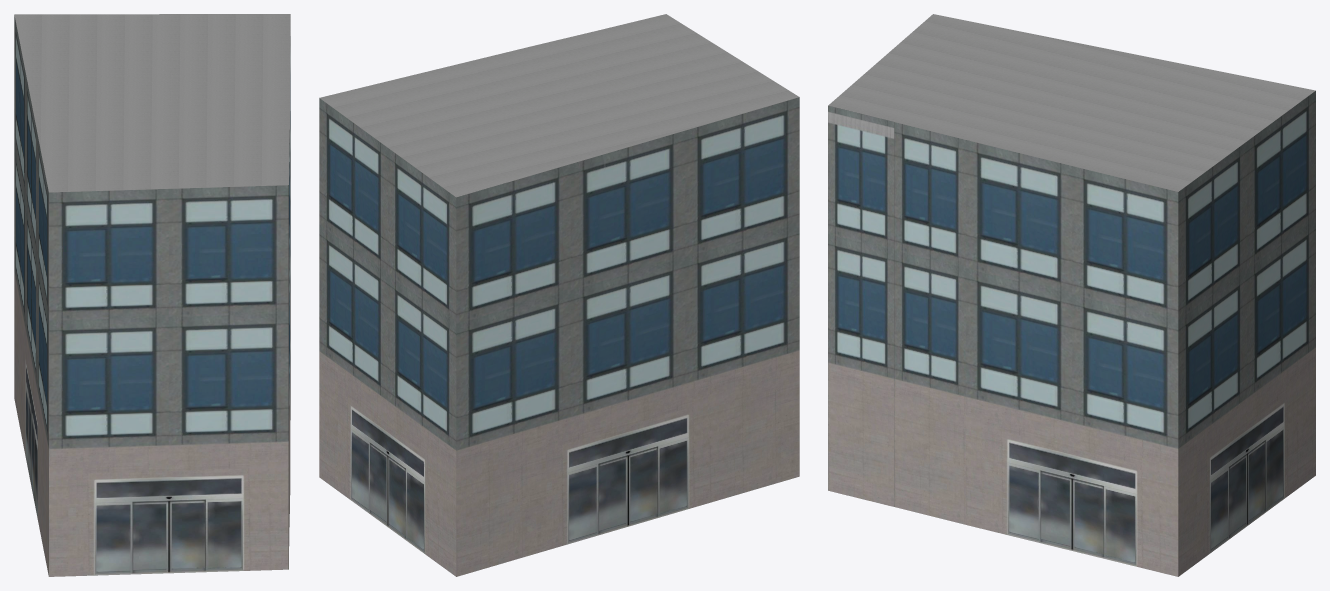
3 renders of one model, left to right at view 1: azimuth 30°, elevation 25°; view 2: azimuth 150°, elevation 25°; view 3: azimuth 270°, elevation 25°, orthographic.
Visible parts, largest first — view 1: BuildingMaster_0000193374714462431300000000_0, BuildingMaster_0000193374714462431300000000_1; view 2: BuildingMaster_0000193374714462431300000000_0, BuildingMaster_0000193374714462431300000000_1; view 3: BuildingMaster_0000193374714462431300000000_0, BuildingMaster_0000193374714462431300000000_1.
Part boxes in pixels (box(x1,y1,x2,y2)): BuildingMaster_0000193374714462431300000000_0: box(14, 15, 290, 576); BuildingMaster_0000193374714462431300000000_1: box(14, 14, 290, 192); BuildingMaster_0000193374714462431300000000_0: box(319, 97, 799, 576); BuildingMaster_0000193374714462431300000000_1: box(319, 14, 798, 197); BuildingMaster_0000193374714462431300000000_0: box(828, 91, 1315, 576); BuildingMaster_0000193374714462431300000000_1: box(828, 14, 1315, 191).
Bounding box in the file's own units: 10.41 × 10.5 × 12.06.
2 materials, 2 textured.
